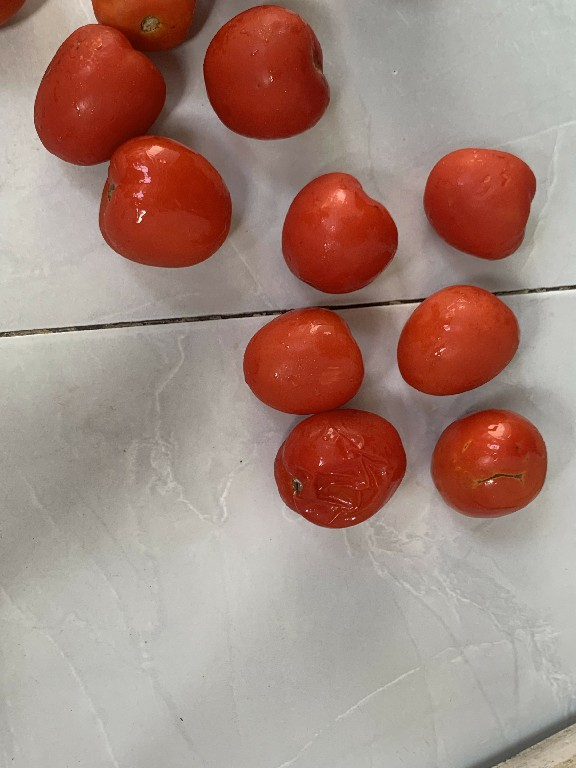NG: (268, 411, 416, 529), (426, 404, 552, 517)
OK: (93, 120, 237, 275), (25, 20, 162, 166), (195, 4, 337, 142), (393, 279, 527, 403), (277, 167, 399, 301), (413, 140, 537, 267), (243, 304, 366, 410)
